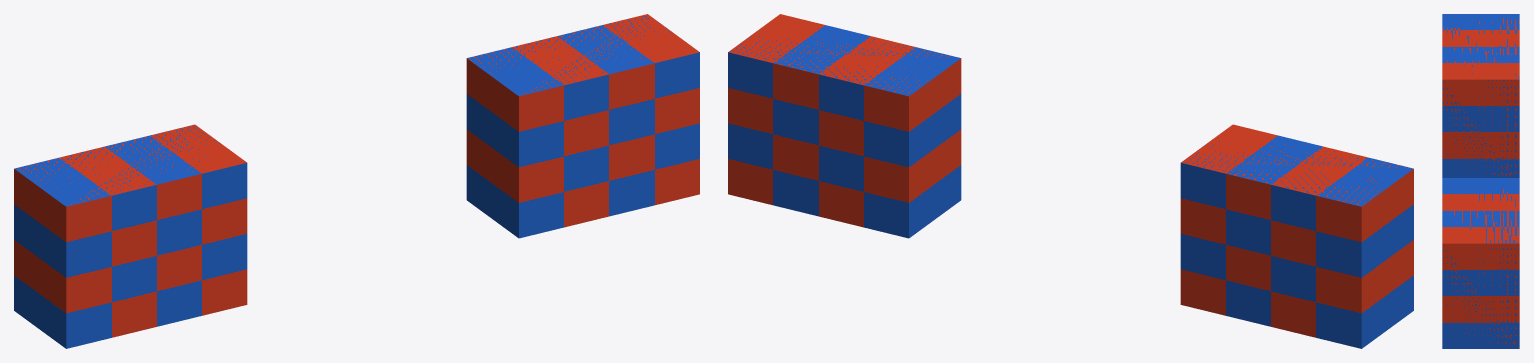
File: materials.glb
3 views of the same model, side by side, from view 1: azimuth 30°, elevation 25°; view 2: azimuth 150°, elevation 25°; view 3: azimuth 270°, elevation 25° (orthographic). The views are drawn at different scales.
Parts seen in each view (by area): view 1: First, Second; view 2: First, Second; view 3: Second, First.
Boxes of the visible parts, left/top/right/bottom form: First: left=14, top=124, right=247, bottom=348; Second: left=466, top=14, right=699, bottom=238; First: left=1180, top=124, right=1413, bottom=348; Second: left=728, top=14, right=961, bottom=238; Second: left=1442, top=178, right=1519, bottom=348; First: left=1442, top=14, right=1519, bottom=177.
Bounding box in the file's own units: 1.4 × 0.3 × 0.2.
Materials: 1 (1 with a texture image).
